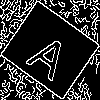A: (25, 25, 79, 82)
